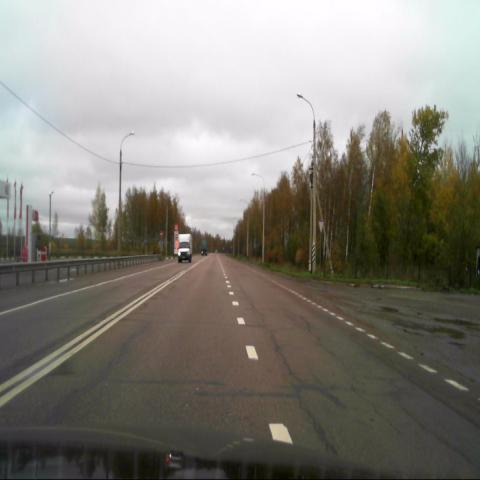2_4: (318, 220, 324, 234)
